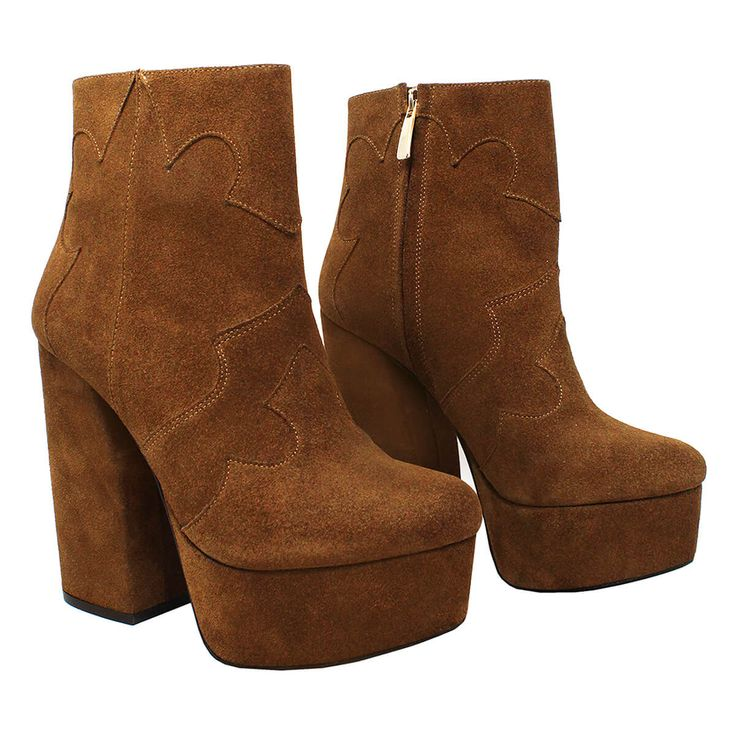gamuza: (33, 60, 708, 671)
